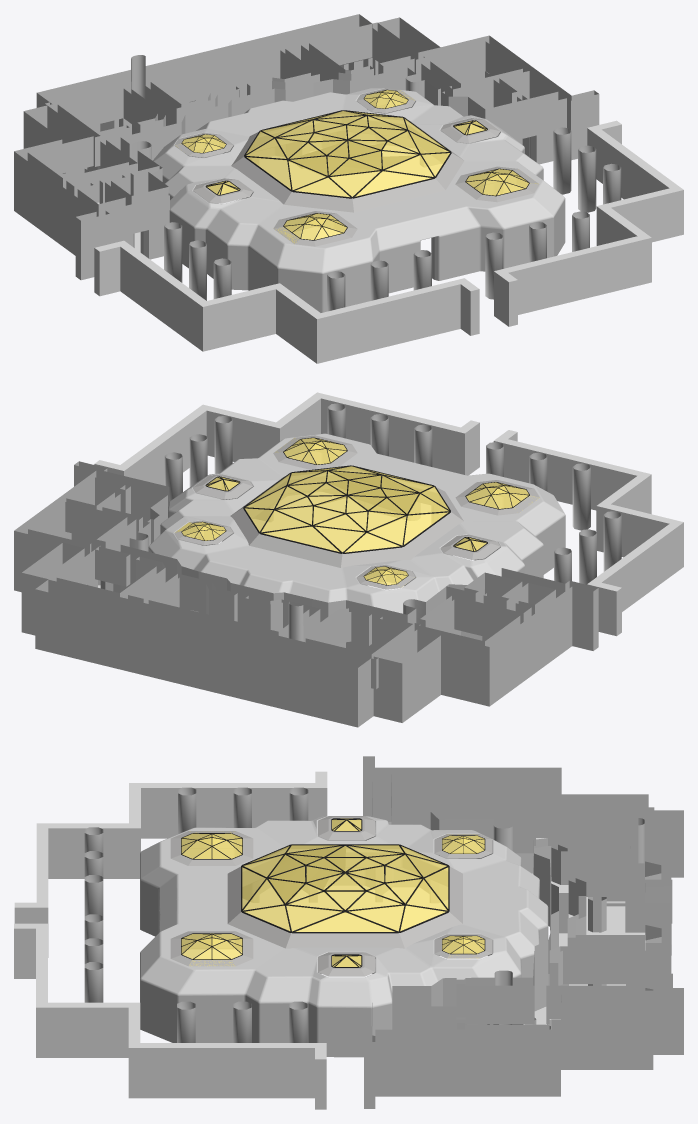
File: The Grand Temple of Brazenthrone.fbx
3 views of the same model, one above another, from view 1: azimuth 30°, elevation 25°; view 2: azimuth 150°, elevation 25°; view 3: azimuth 270°, elevation 25° (orthographic). The views are drawn at different scales.
Visible parts, largest first — view 1: Floor 2, Temple, Wall, Outer, West.001, Roof Light.002, Wall, Outer, East, Floor 1.001, Floor 1, Roof Light, Plane.003, Plane.005, Walls, Inner.004; view 2: Floor 2, Temple, Floor 1, Roof Light.002, Wall, Outer, West.001, Wall, Outer, East, Floor 1.001, Roof Light, Plane.003, Plane.005, Walls, Inner.004, Plane.004; view 3: Floor 2, Temple, Roof Light.002, Floor 1, Wall, Outer, East, Wall, Outer, West.001, Floor 1.001, Roof Light, Plane.003, Plane.005, Flooring, Plane.004.
Part boxes in pixels (<box>): Floor 2: <box>14,14,599,250</box>; Temple: <box>152,88,565,312</box>; Wall, Outer, West.001: <box>94,240,479,363</box>; Roof Light.002: <box>231,110,464,212</box>; Wall, Outer, East: <box>494,120,683,326</box>; Floor 1.001: <box>164,127,621,311</box>; Floor 1: <box>14,57,599,280</box>; Roof Light: <box>273,166,539,246</box>; Plane.003: <box>174,88,415,157</box>; Plane.005: <box>193,118,500,203</box>; Walls, Inner.004: <box>131,55,145,98</box>; Floor 2: <box>14,461,598,697</box>; Temple: <box>148,433,565,613</box>; Floor 1: <box>14,516,598,727</box>; Roof Light.002: <box>230,465,463,567</box>; Wall, Outer, West.001: <box>493,430,683,636</box>; Wall, Outer, East: <box>94,392,479,485</box>; Floor 1.001: <box>164,403,621,584</box>; Roof Light: <box>273,435,539,515</box>; Plane.003: <box>174,520,415,589</box>; Plane.005: <box>193,474,500,559</box>; Walls, Inner.004: <box>288,602,303,641</box>; Plane.004: <box>181,521,408,585</box>; Floor 2: <box>363,756,683,1075</box>; Temple: <box>140,816,548,1057</box>; Roof Light.002: <box>227,844,462,948</box>; Floor 1: <box>363,790,683,1108</box>; Wall, Outer, East: <box>14,923,326,1109</box>; Wall, Outer, West.001: <box>14,771,327,957</box>; Floor 1.001: <box>84,787,308,1042</box>; Roof Light: <box>170,831,253,966</box>; Plane.003: <box>434,834,492,958</box>; Plane.005: <box>318,816,375,976</box>; Flooring: <box>534,838,645,1024</box>; Plane.004: <box>442,835,485,954</box>.
Size of what is drawn, in the model's own units: 5588 by 914 by 5503.
